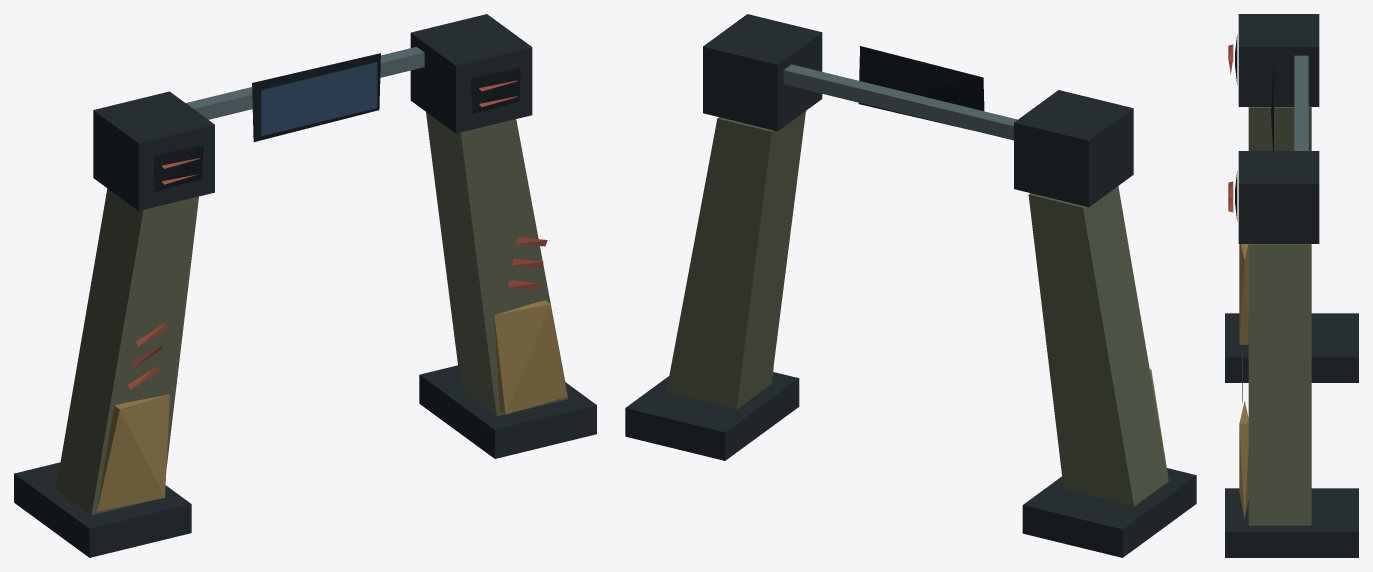
Rendered from JAMMER_GATE_FRAME.shadow.glb.
The picture shows the model from 3 angles, left to right: view 1: azimuth 30°, elevation 25°; view 2: azimuth 150°, elevation 25°; view 3: azimuth 270°, elevation 25°; orthographic projection. The views are drawn at different scales.
Visible parts, largest first — view 1: Body_Mesh, SignSurface; view 2: Body_Mesh; view 3: Body_Mesh.
Boxes of the visible parts, bbox=[...] form: Body_Mesh: bbox=[14, 14, 596, 557]; SignSurface: bbox=[261, 62, 377, 136]; Body_Mesh: bbox=[625, 14, 1196, 557]; Body_Mesh: bbox=[1225, 14, 1358, 557].
Bounding box in the file's own units: 4.38 × 3.37 × 1.13.
